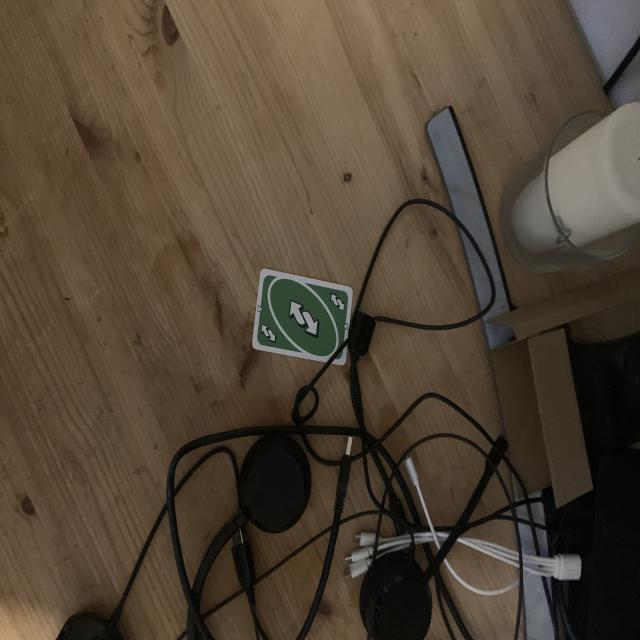lgreenrevers-20: (260, 322, 280, 345)
